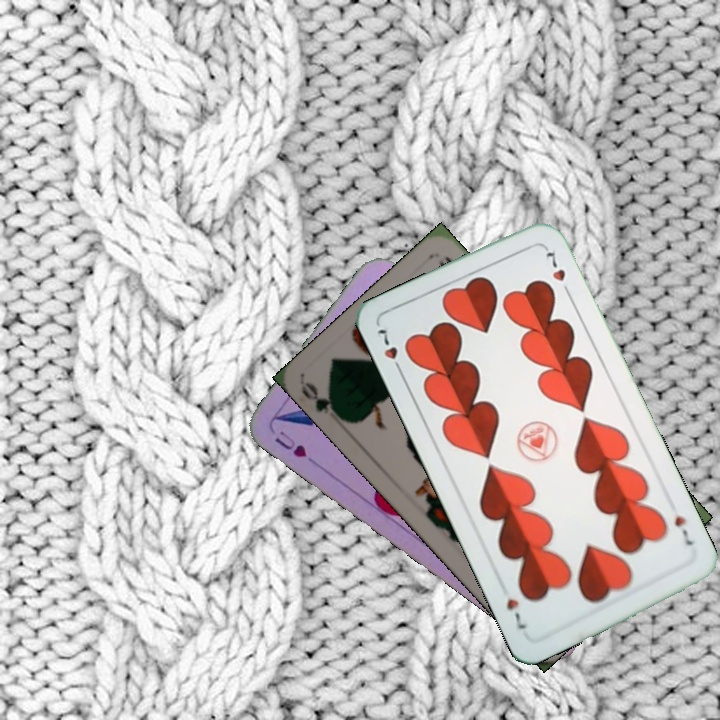GO: (297, 379, 349, 424)
H7: (373, 325, 406, 378), (670, 511, 698, 548)
HU: (270, 427, 310, 461)
